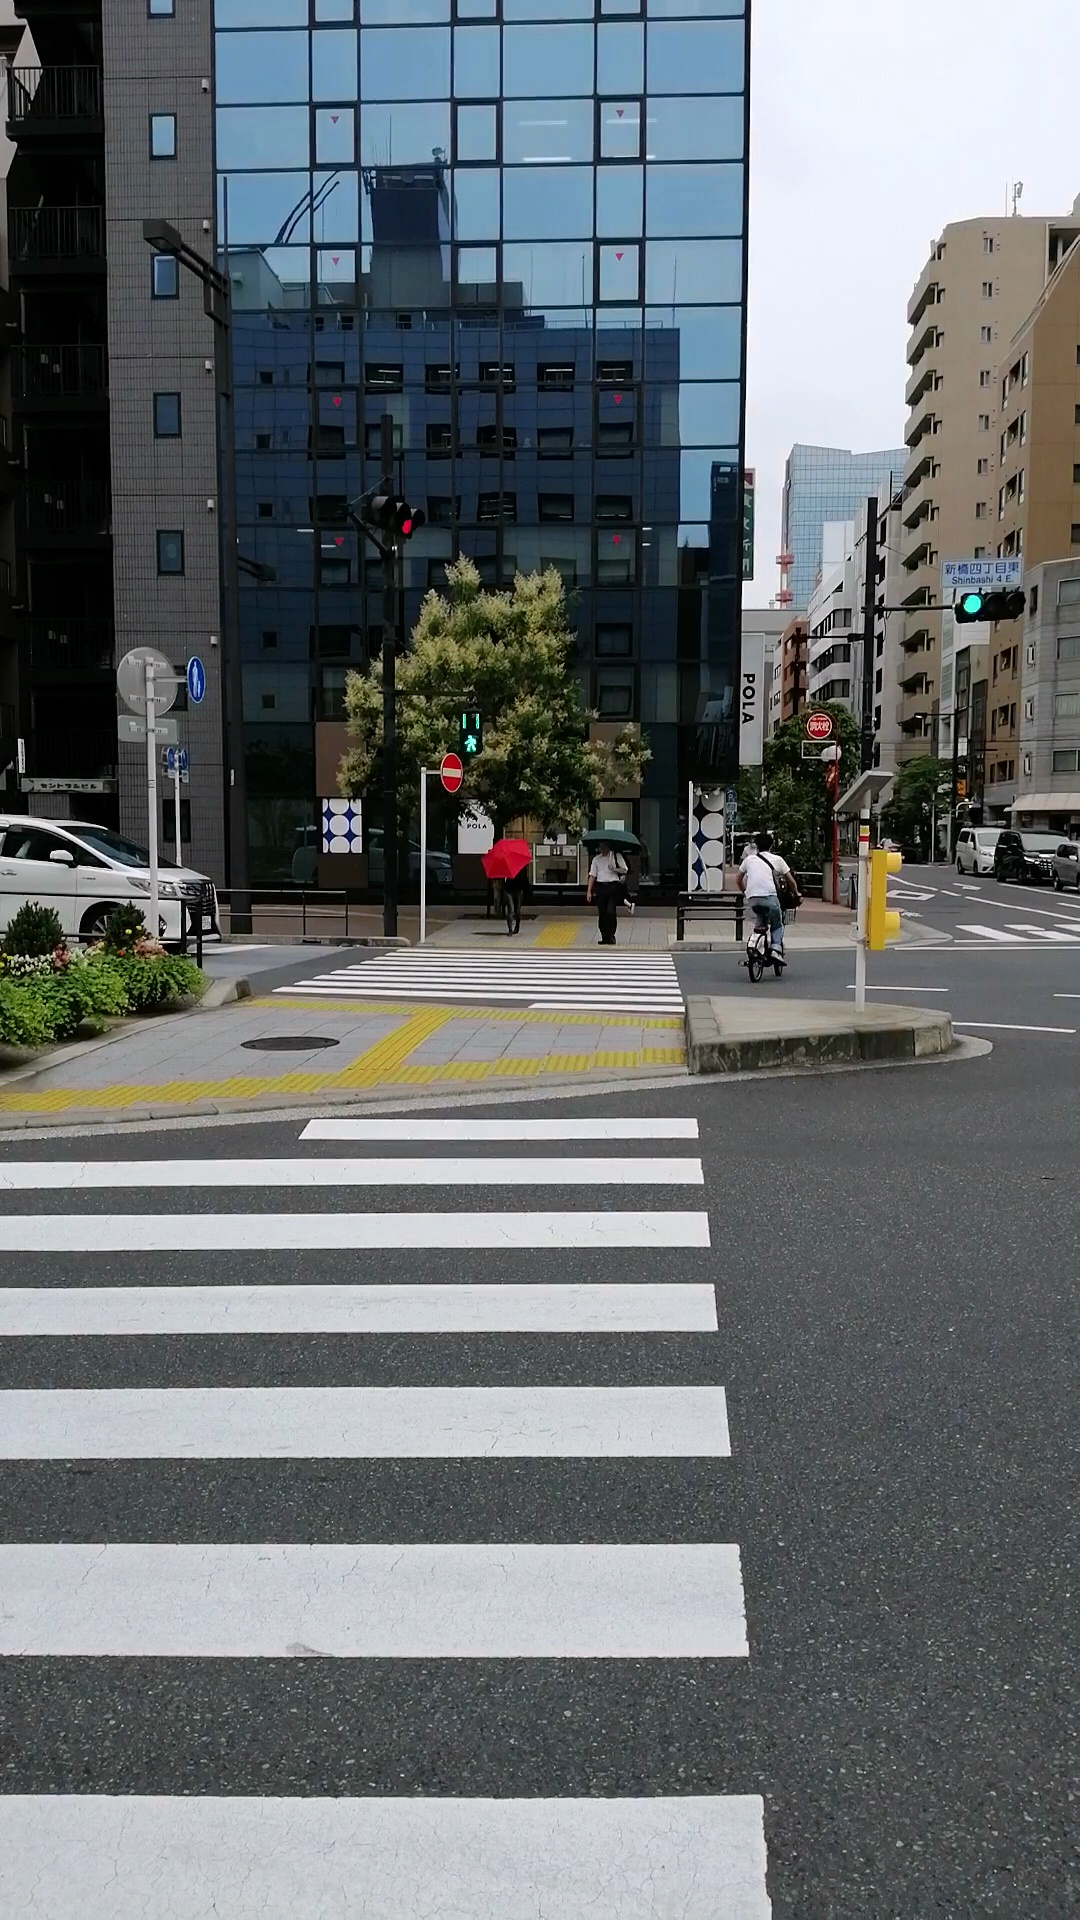green: (458, 707, 483, 756)
